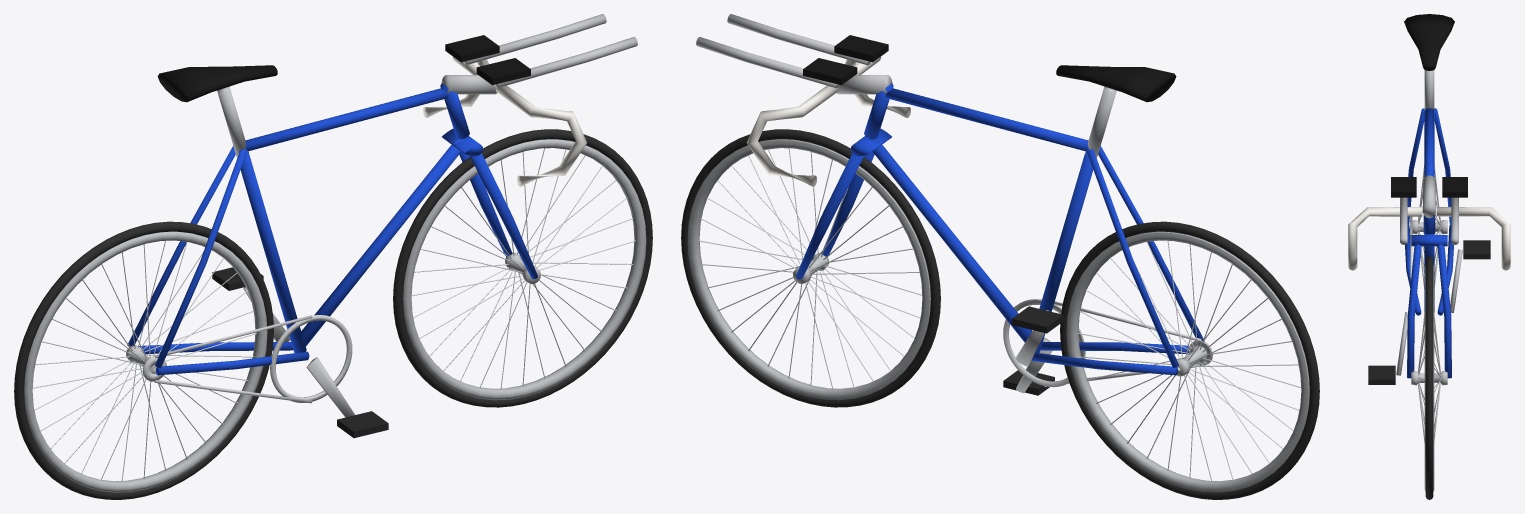
The model's file is bike.glb.
3 renders of one model, left to right at view 1: azimuth 30°, elevation 25°; view 2: azimuth 150°, elevation 25°; view 3: azimuth 270°, elevation 25°, orthographic. The views are drawn at different scales.
Visible parts, largest first — view 1: wheel_front_rim, wheel_rear_rim, wheel_rear_tyre, wheel_front_tyre, wheel_rear_spokes, wheel_front_spokes, down_tube, saddle, seat_tube, top_tube, drop_l, seatstay_l (+15 smaller); view 2: wheel_rear_rim, wheel_front_rim, wheel_rear_tyre, wheel_front_tyre, wheel_rear_spokes, wheel_front_spokes, down_tube, saddle, top_tube, seat_tube, drop_r, seatstay_r (+14 smaller); view 3: wheel_front_tyre, saddle, drop_l, drop_r, fork_l, fork_r, wheel_front_rim, wheel_front_spokes, top_tube, pedal_l, pedal_r, clip_pad_l (+17 smaller).
Boxes of the visible parts, bbox=[...] form: wheel_front_rim: bbox=[403, 139, 646, 400]; wheel_rear_rim: bbox=[24, 231, 267, 492]; wheel_rear_tyre: bbox=[14, 221, 273, 499]; wheel_front_tyre: bbox=[393, 129, 652, 407]; wheel_rear_spokes: bbox=[32, 240, 256, 481]; wheel_front_spokes: bbox=[411, 148, 635, 388]; down_tube: bbox=[301, 138, 465, 346]; saddle: bbox=[157, 65, 277, 102]; seat_tube: bbox=[239, 148, 306, 352]; top_tube: bbox=[245, 88, 448, 151]; drop_l: bbox=[495, 85, 587, 186]; seatstay_l: bbox=[155, 149, 246, 368]; wheel_rear_rim: bbox=[1066, 231, 1309, 492]; wheel_front_rim: bbox=[687, 139, 930, 400]; wheel_rear_tyre: bbox=[1060, 221, 1319, 499]; wheel_front_tyre: bbox=[681, 129, 940, 407]; wheel_rear_spokes: bbox=[1077, 240, 1300, 481]; wheel_front_spokes: bbox=[698, 148, 922, 389]; down_tube: bbox=[868, 138, 1031, 342]; saddle: bbox=[1056, 65, 1176, 102]; top_tube: bbox=[885, 88, 1088, 151]; seat_tube: bbox=[1035, 148, 1094, 352]; drop_r: bbox=[746, 85, 838, 186]; seatstay_r: bbox=[1087, 149, 1178, 368]; wheel_front_tyre: bbox=[1425, 256, 1433, 499]; saddle: bbox=[1404, 14, 1454, 70]; drop_l: bbox=[1348, 207, 1422, 270]; drop_r: bbox=[1436, 207, 1510, 270]; fork_l: bbox=[1407, 244, 1421, 378]; fork_r: bbox=[1437, 244, 1451, 378]; wheel_front_rim: bbox=[1424, 264, 1434, 491]; wheel_front_spokes: bbox=[1418, 313, 1440, 443]; top_tube: bbox=[1425, 108, 1433, 176]; pedal_l: bbox=[1368, 365, 1395, 384]; pedal_r: bbox=[1463, 240, 1490, 259]; clip_pad_l: bbox=[1391, 177, 1416, 197].
Bounding box in the file's own units: 1.65 × 1.01 × 0.4447.
